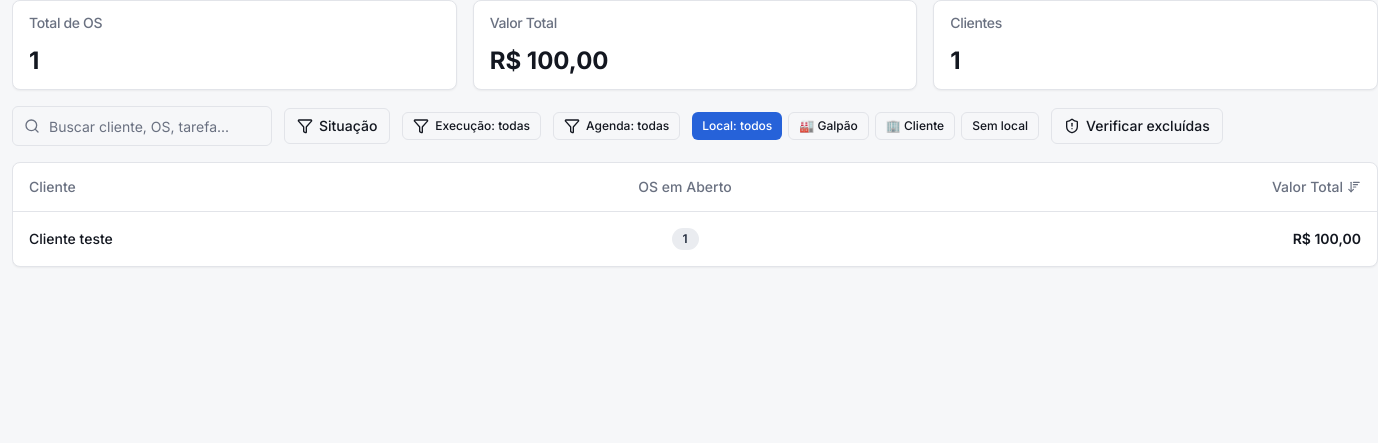
Test: Controle OS — atualização dos vínculos e do cache visual › OS 10222 mantém execução 79667772 sem agenda mesmo com diagnóstico 70949049 finalizado
This screenshot has width=1378, height=443.
Click the text "Cliente teste".
click(71, 238)  # box [29,228,113,248]
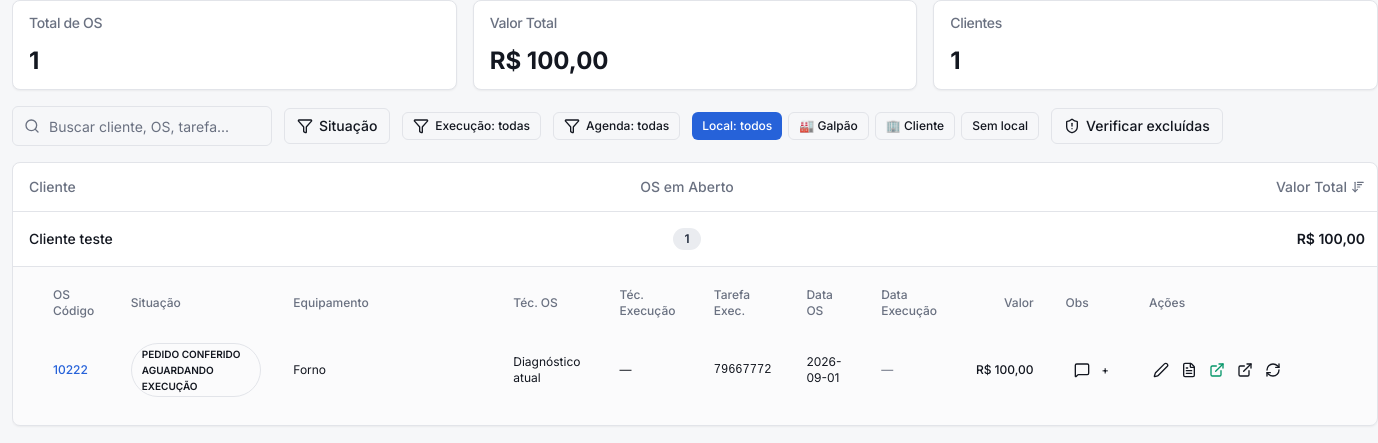
Expected: the text "Diagnóstico atual" is shown, [497,326,604,412]
Expected: the 1st cell "—" is shown, [604,326,698,412]
Expected: the 2nd cell "—" is shown, [865,326,960,412]
